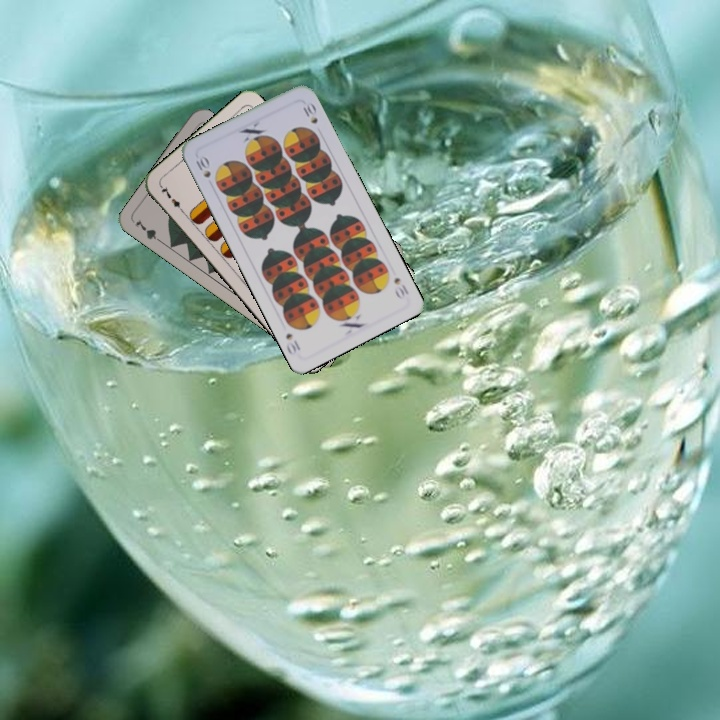E7: (156, 182, 187, 216)
G7: (130, 215, 166, 247)
S10: (192, 151, 213, 180), (390, 273, 411, 302)
